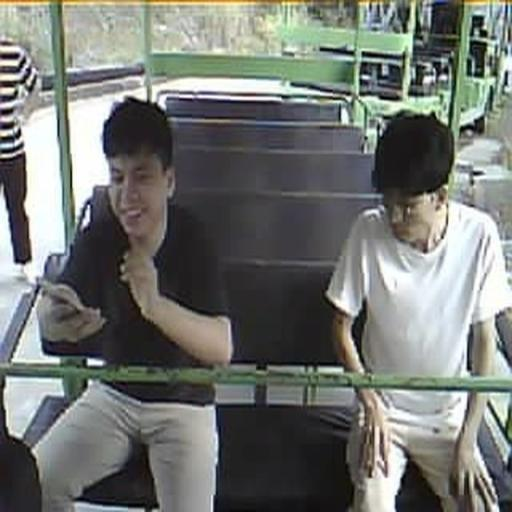persona: (31, 94, 235, 510), (324, 110, 510, 511)
